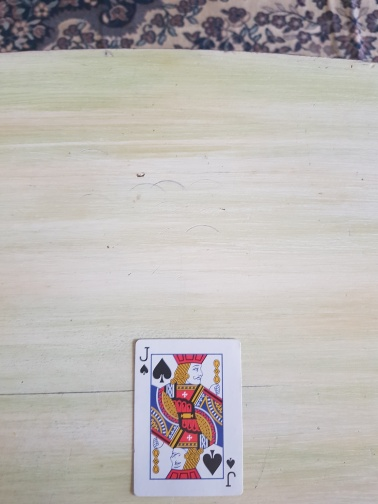jack: (131, 337, 245, 498)
